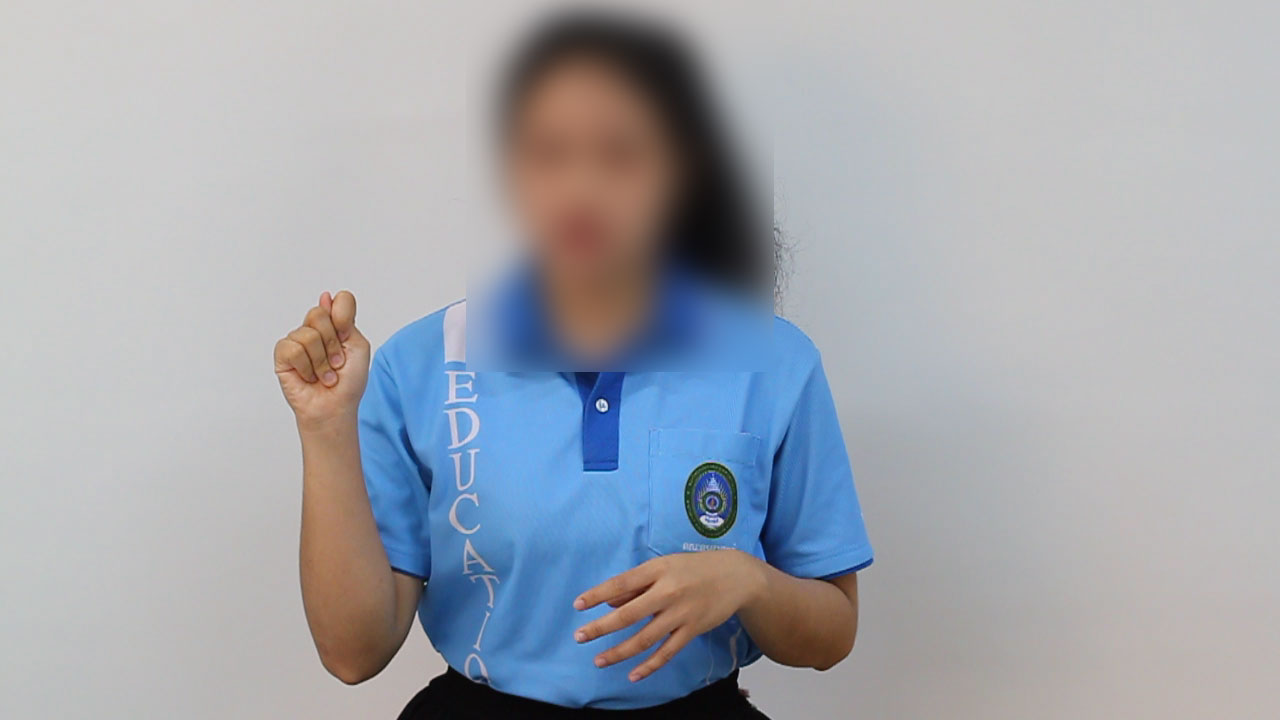tor: (254, 275, 392, 442)
